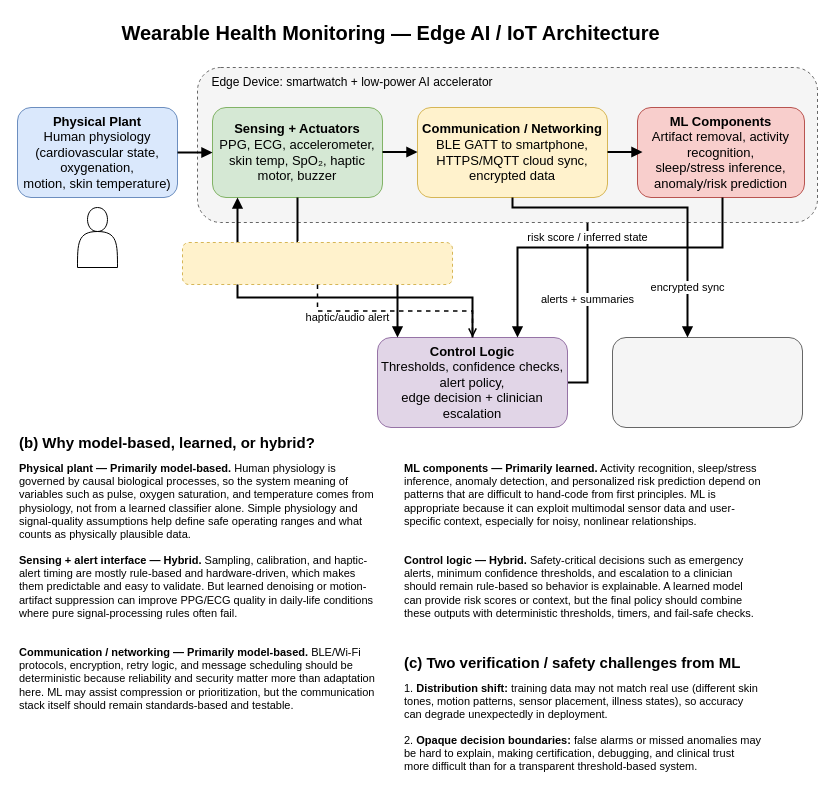
Some shapes in this 835 by 796 pixel diagram are drawn without their labels. Here are the shapes that lost their labels. From the top down, the box of each, then its label:
(182, 242, 452, 284): Low confidence / poor signal -> conservative threshold policy or re-measurement
(612, 336, 802, 428): Phone / Cloud / Clinician App dashboard, history, escalation records
